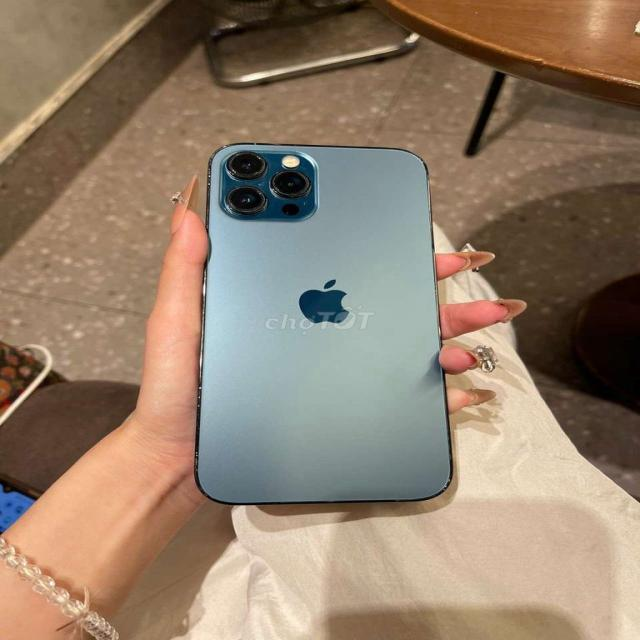gen_12_13: (195, 124, 461, 513)
